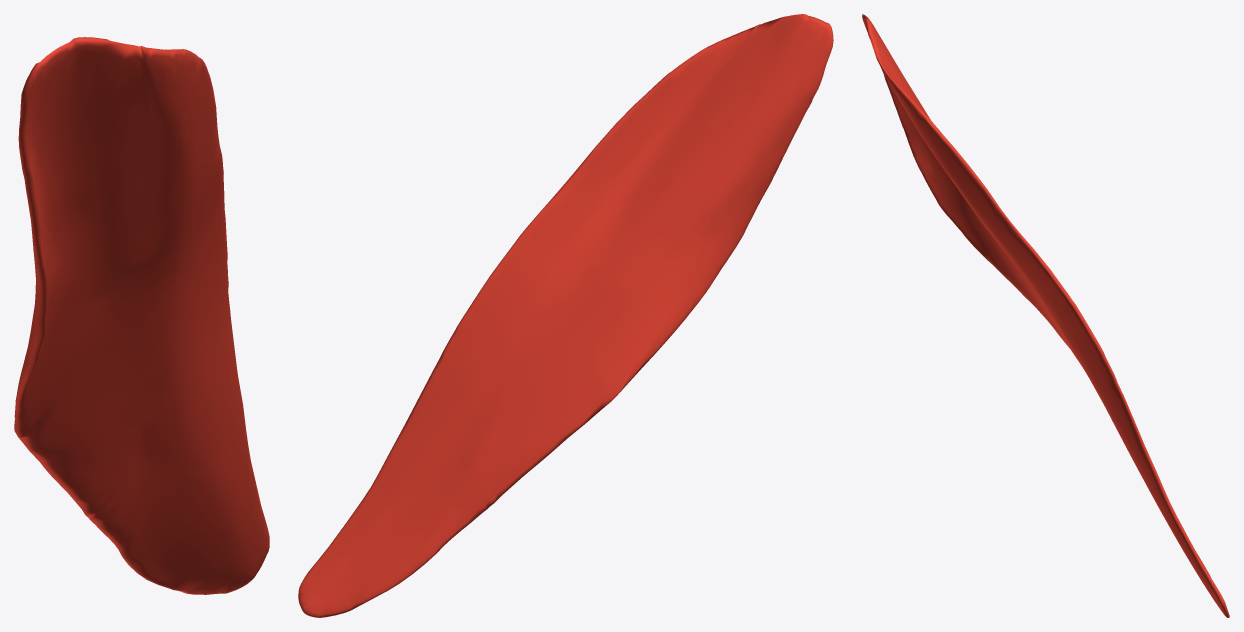
Rendered from Teres_minor_muscle-Scapular_insertion.r_Generated_Mesh_From_X3D.glb.
3 renders of one model, left to right at view 1: azimuth 30°, elevation 25°; view 2: azimuth 150°, elevation 25°; view 3: azimuth 270°, elevation 25°, orthographic. The views are drawn at different scales.
Parts seen in each view (by area): view 1: Teres_minor_muscle-Scapular_insertion.r_Generated_Mesh_From_; view 2: Teres_minor_muscle-Scapular_insertion.r_Generated_Mesh_From_; view 3: Teres_minor_muscle-Scapular_insertion.r_Generated_Mesh_From_.
Boxes of the visible parts, x1=… form: Teres_minor_muscle-Scapular_insertion.r_Generated_Mesh_From_: x1=14, y1=37, x2=269, y2=594; Teres_minor_muscle-Scapular_insertion.r_Generated_Mesh_From_: x1=298, y1=14, x2=833, y2=617; Teres_minor_muscle-Scapular_insertion.r_Generated_Mesh_From_: x1=862, y1=14, x2=1229, y2=617.
Size of the model in its own units: 0.0365 by 0.0546 by 0.0387.
